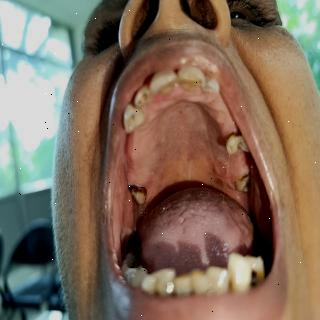stains: (128, 183, 148, 207)
